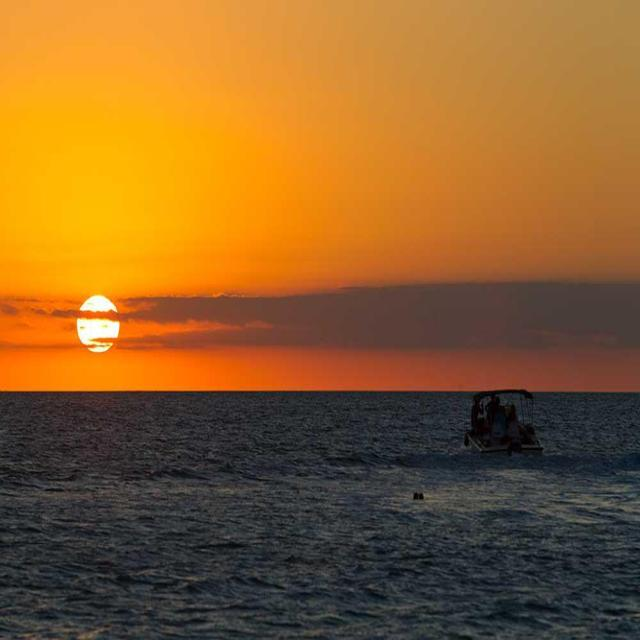other: (20, 247, 185, 378)
